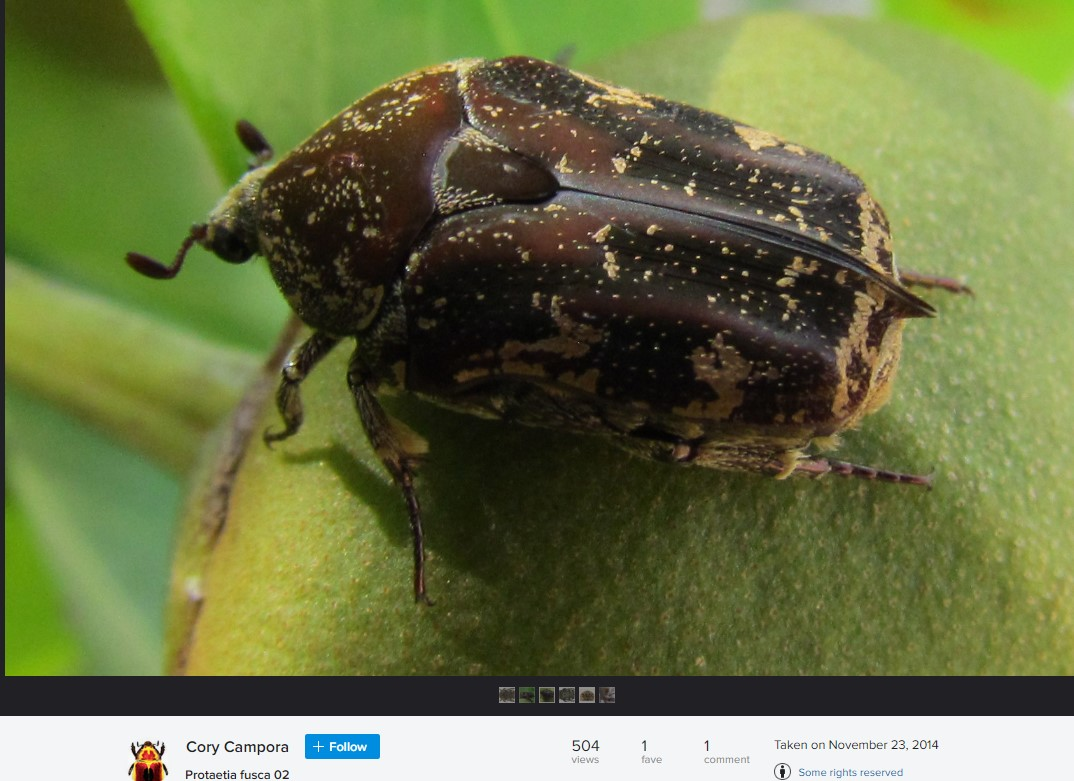Protaetia_fusca: (109, 48, 968, 616)
